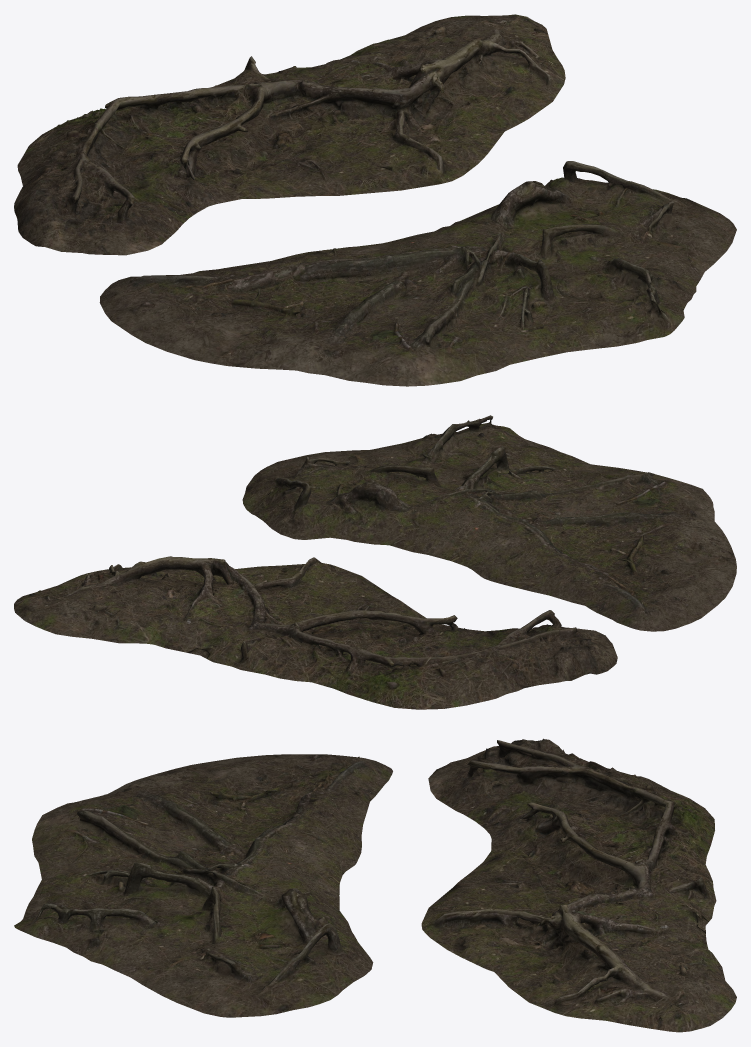
The model's file is pine_roots.glb.
3 renders of one model, top to bottom at view 1: azimuth 30°, elevation 25°; view 2: azimuth 150°, elevation 25°; view 3: azimuth 270°, elevation 25°, orthographic. The views are drawn at different scales.
Visible parts, largest first — view 1: pine_roots_b, pine_roots_a; view 2: pine_roots_b, pine_roots_a; view 3: pine_roots_b, pine_roots_a.
Part boxes in pixels (x1,y1,x2,y2): pine_roots_b: (99, 161, 736, 386); pine_roots_a: (14, 14, 565, 255); pine_roots_b: (242, 415, 736, 631); pine_roots_a: (14, 556, 617, 709); pine_roots_b: (14, 754, 392, 1017); pine_roots_a: (421, 738, 736, 1032).
Bounding box in the file's own units: 1.77 × 0.1544 × 1.89.
2 materials, 2 textured.
